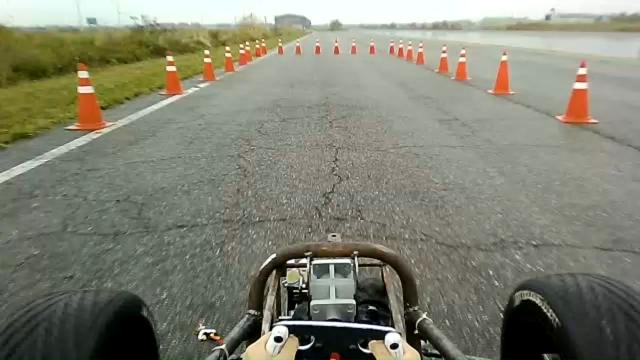red cone: (63, 62, 115, 130), (555, 60, 599, 124), (158, 50, 185, 96), (487, 51, 515, 95), (451, 47, 472, 80), (199, 48, 218, 82), (435, 44, 449, 74), (222, 45, 235, 72), (415, 41, 425, 65), (404, 40, 414, 61), (244, 40, 252, 61), (396, 39, 404, 58), (388, 38, 396, 55), (255, 40, 262, 57)
